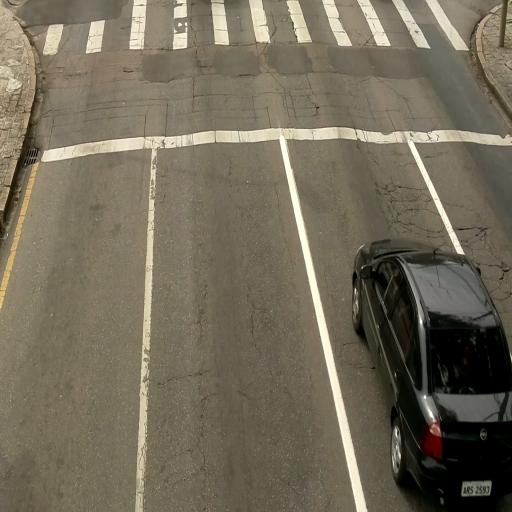car: (352, 241, 511, 503)
